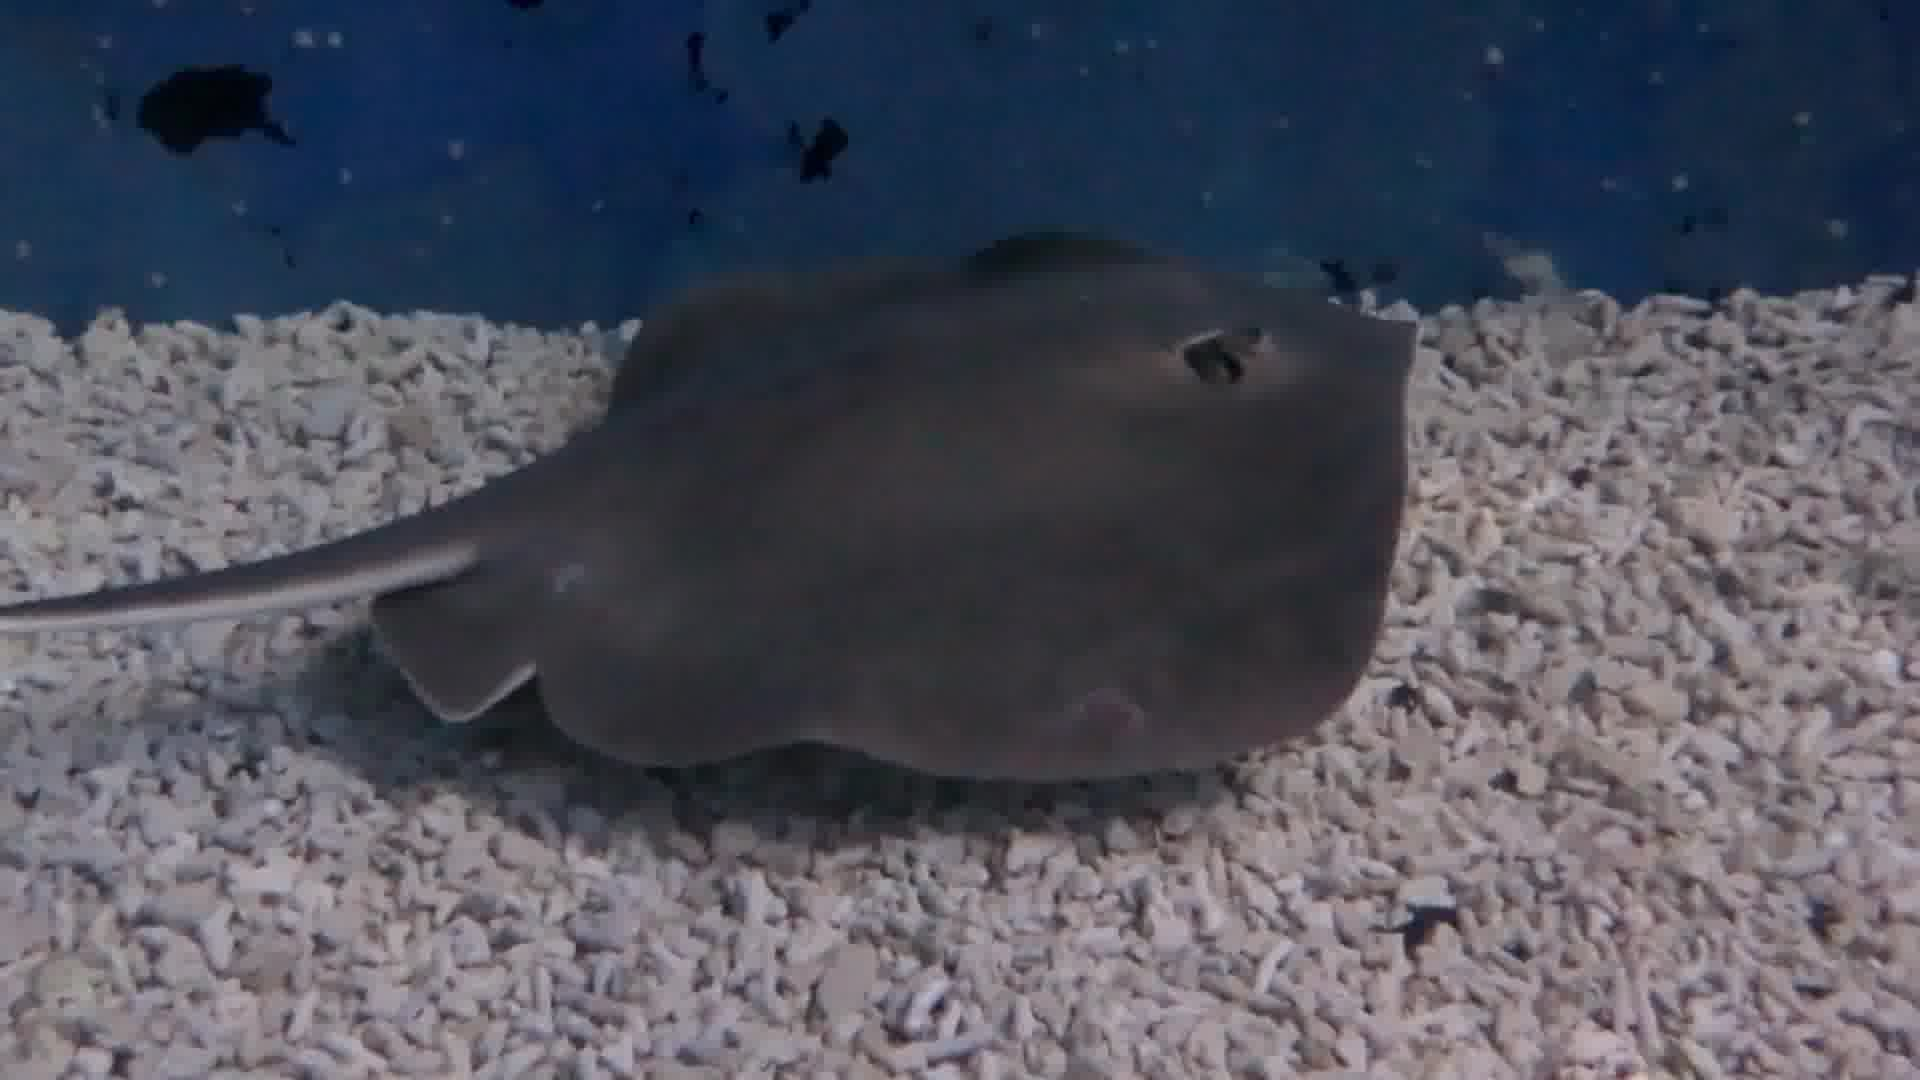Dasyatis bennetti: (255, 79, 1618, 930)
